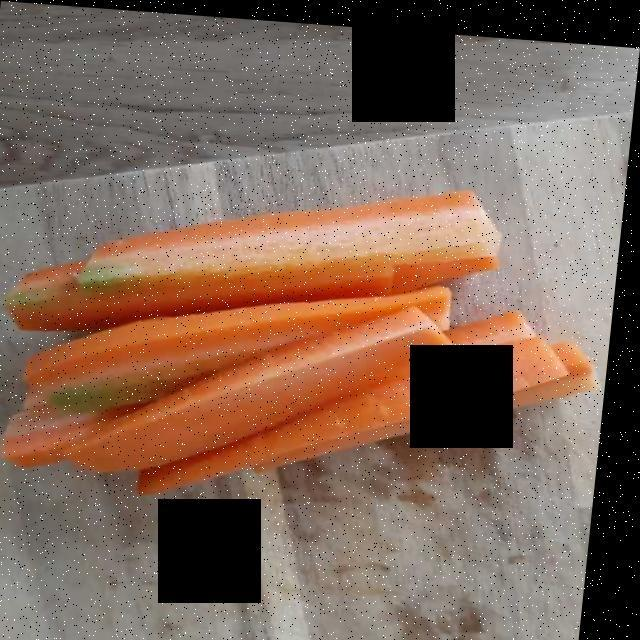carrot: (7, 181, 594, 503)
